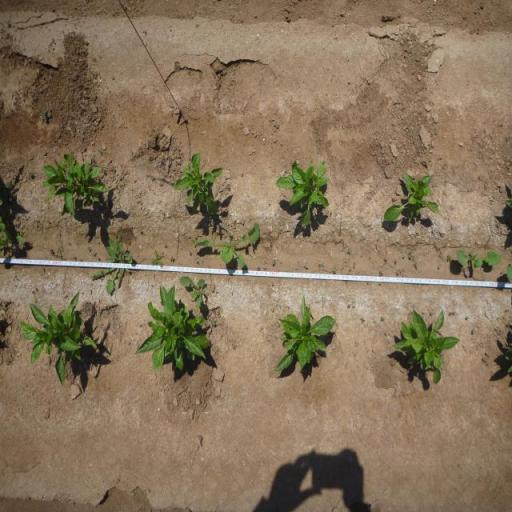plant: (18, 289, 97, 387), (135, 283, 212, 376), (390, 304, 460, 386), (274, 295, 337, 378), (41, 150, 108, 221), (274, 156, 332, 229), (172, 151, 224, 215), (380, 170, 440, 225)
weed: (192, 218, 263, 274), (93, 236, 134, 294), (179, 272, 209, 310), (0, 219, 26, 255), (456, 248, 500, 269), (148, 248, 166, 266), (40, 108, 50, 122), (57, 240, 62, 258), (270, 259, 276, 267), (378, 269, 384, 277), (446, 254, 452, 262), (408, 250, 413, 259), (413, 261, 418, 270), (92, 158, 97, 166), (231, 343, 236, 351), (332, 266, 337, 274), (470, 328, 476, 334), (211, 319, 216, 326), (170, 256, 175, 262), (346, 247, 350, 254), (88, 246, 92, 252), (380, 316, 384, 322), (396, 270, 400, 275)
